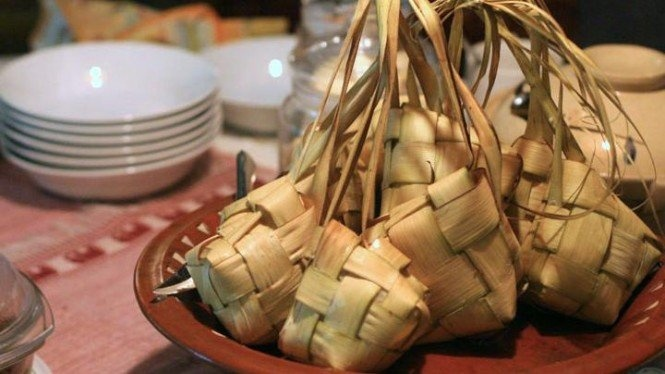ketupat: (276, 218, 430, 374), (520, 160, 661, 327), (184, 183, 323, 344)
